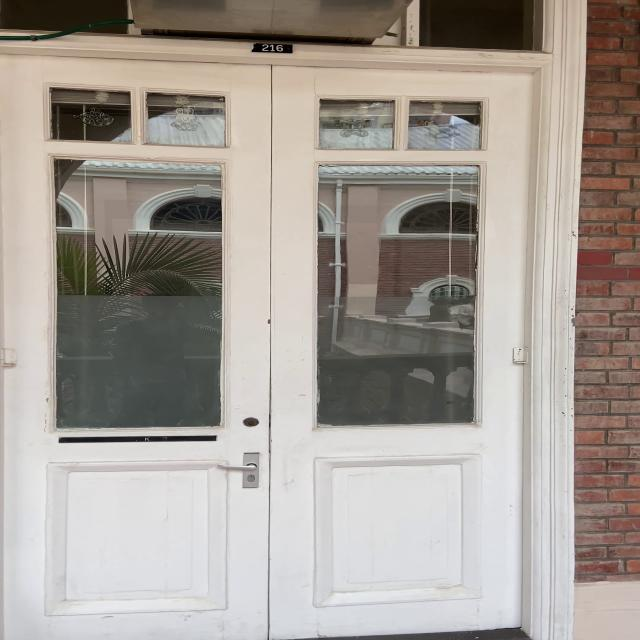room216: (245, 39, 298, 54)
